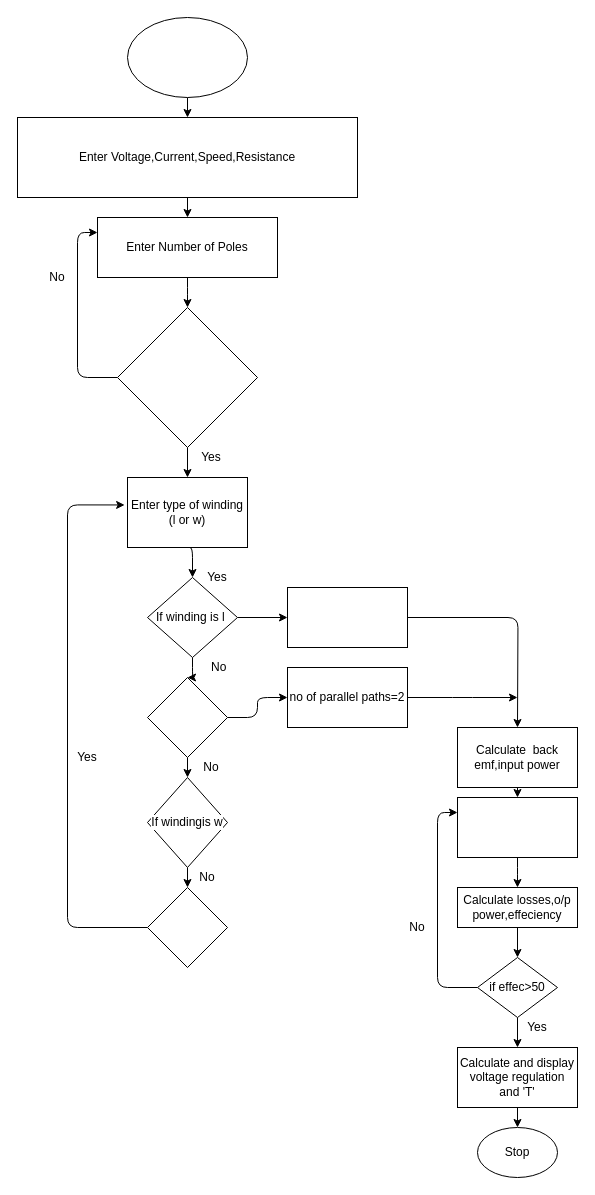
Image size: 595x1195. Some labels were removed from this diagram. The centre of each missing label's shape, as x and y in pixels:
"Enter hysteresis coef,Volume,'B','t'" belongs at (517,827).
"If number of poles is even" belongs at (187,377).
"If winding is l or w" belongs at (187,717).
"If winding is neither l or w" belongs at (187,927).
"no,of parallel parths=no,of poles" belongs at (347,617).
"Start" belongs at (187,57).
